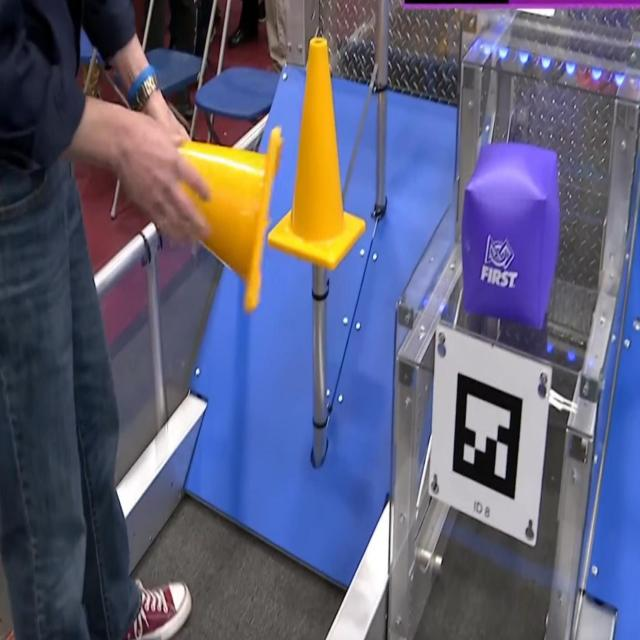frc_cone: (268, 40, 368, 271), (173, 124, 281, 312)
frc_cube: (463, 144, 560, 327)
